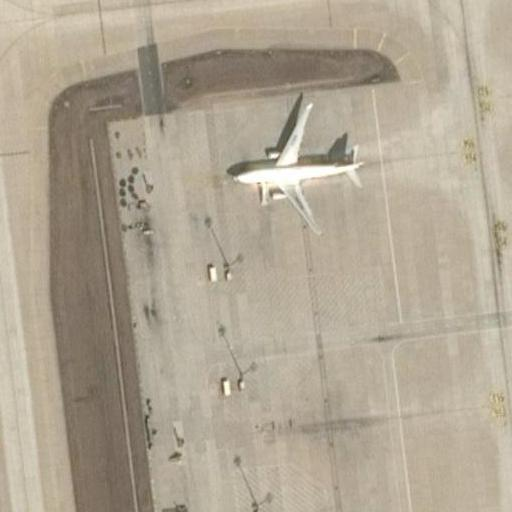Aircraft: (215, 102, 370, 229)
